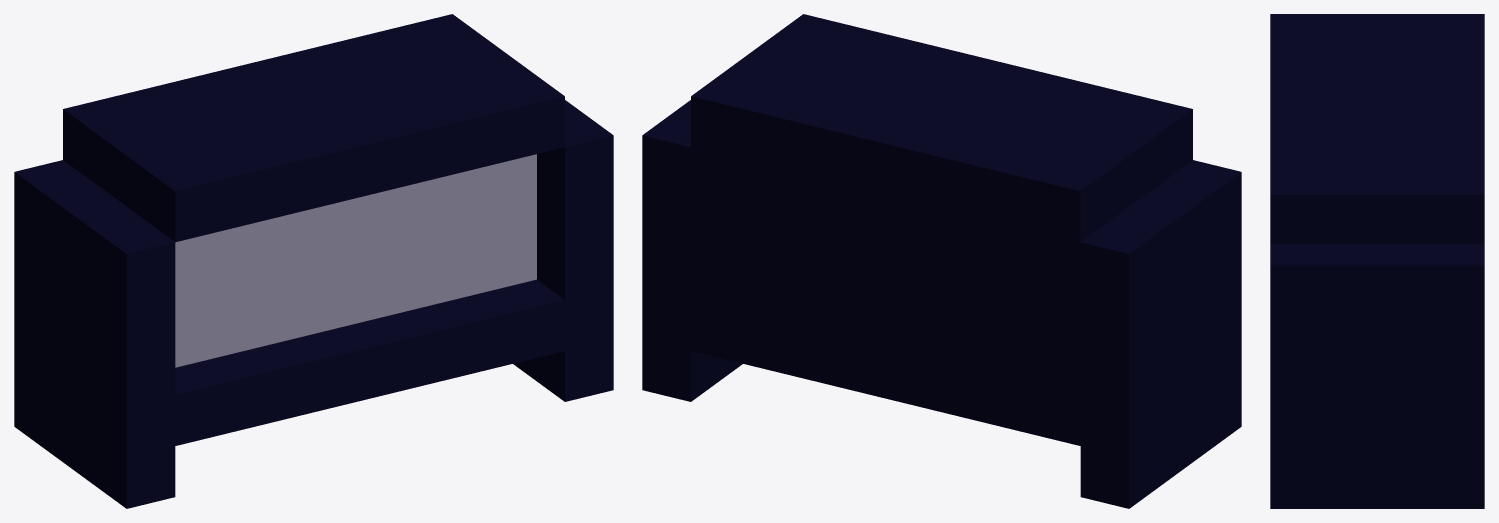
The model's file is alarm.obj.
The picture shows the model from 3 angles, left to right: view 1: azimuth 30°, elevation 25°; view 2: azimuth 150°, elevation 25°; view 3: azimuth 270°, elevation 25°; orthographic projection. The views are drawn at different scales.
Size of the model in its own units: 1 by 0.6 by 0.4.
1 material, 1 textured.
